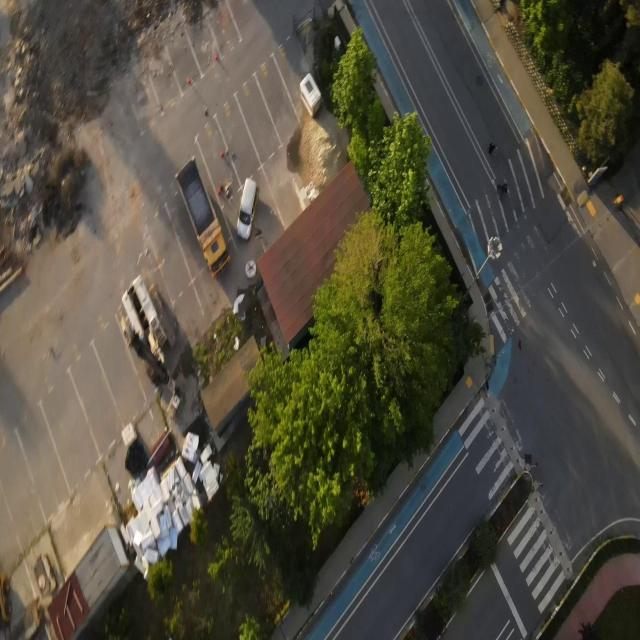p3rson: (496, 181, 509, 202), (488, 140, 499, 156)
